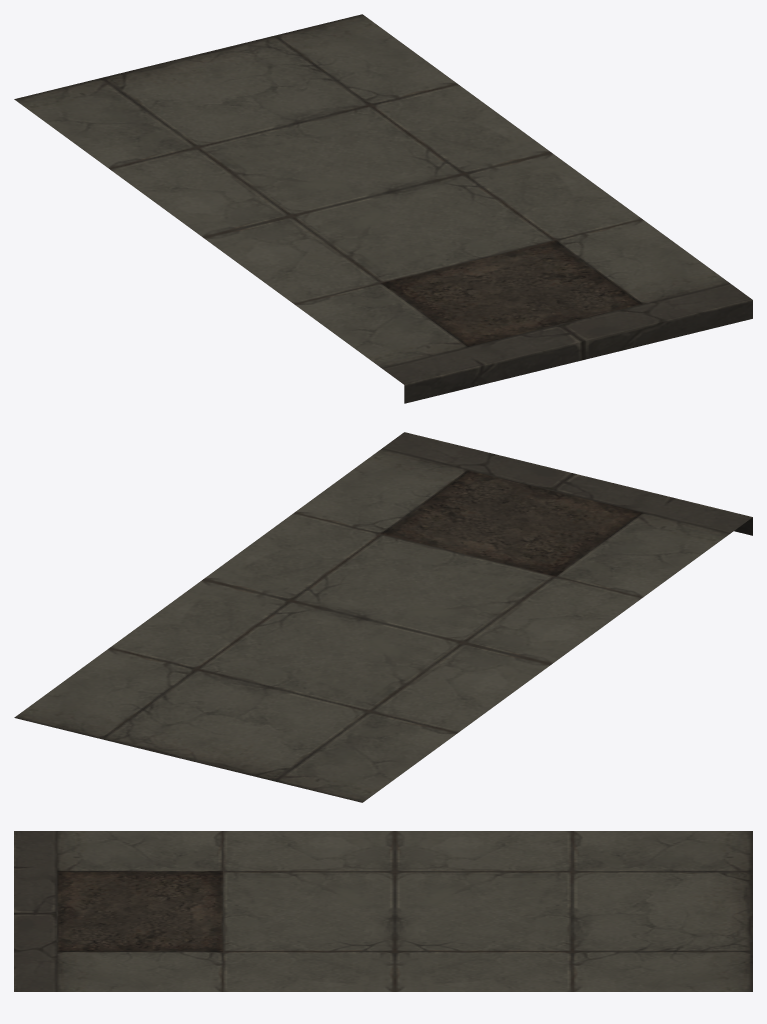
Rendered from Stage-gongchang-bianlu4.FBX.
3 renders of one model, top to bottom at view 1: azimuth 30°, elevation 25°; view 2: azimuth 150°, elevation 25°; view 3: azimuth 270°, elevation 25°, orthographic. The views are drawn at different scales.
Visible parts, largest first — view 1: Box424; view 2: Box424; view 3: Box424.
Part boxes in pixels (x1,y1,x2,y2): Box424: [14, 14, 752, 403]; Box424: [14, 432, 752, 802]; Box424: [14, 831, 752, 991].
Size of the model in its own units: 5.6 by 10.86 by 0.2881.
